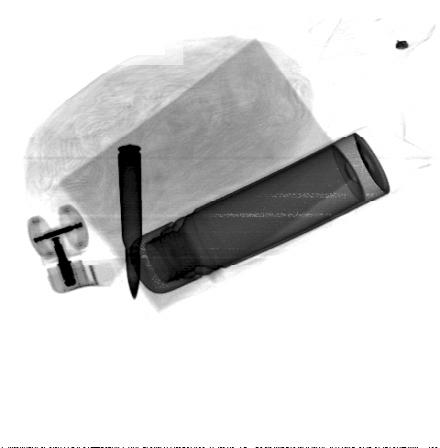Bullet: (116, 143, 144, 303)
